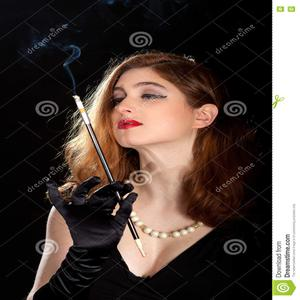cigarette: (71, 89, 95, 134)
